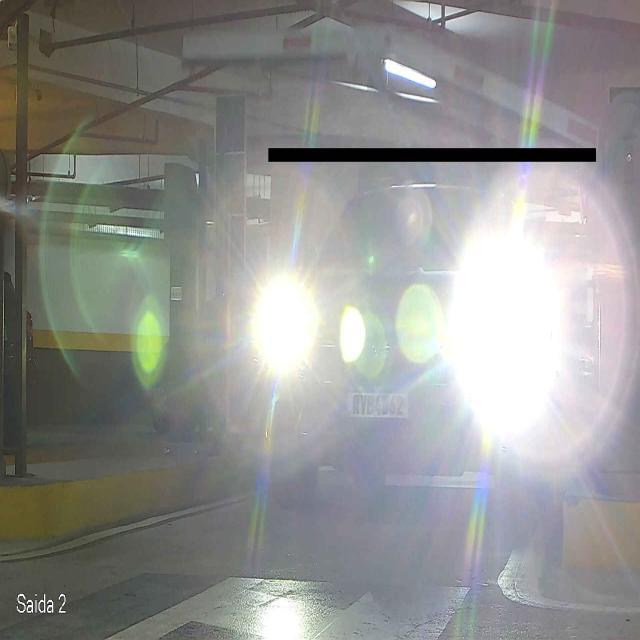mercosul_plate: (346, 384, 410, 420)
